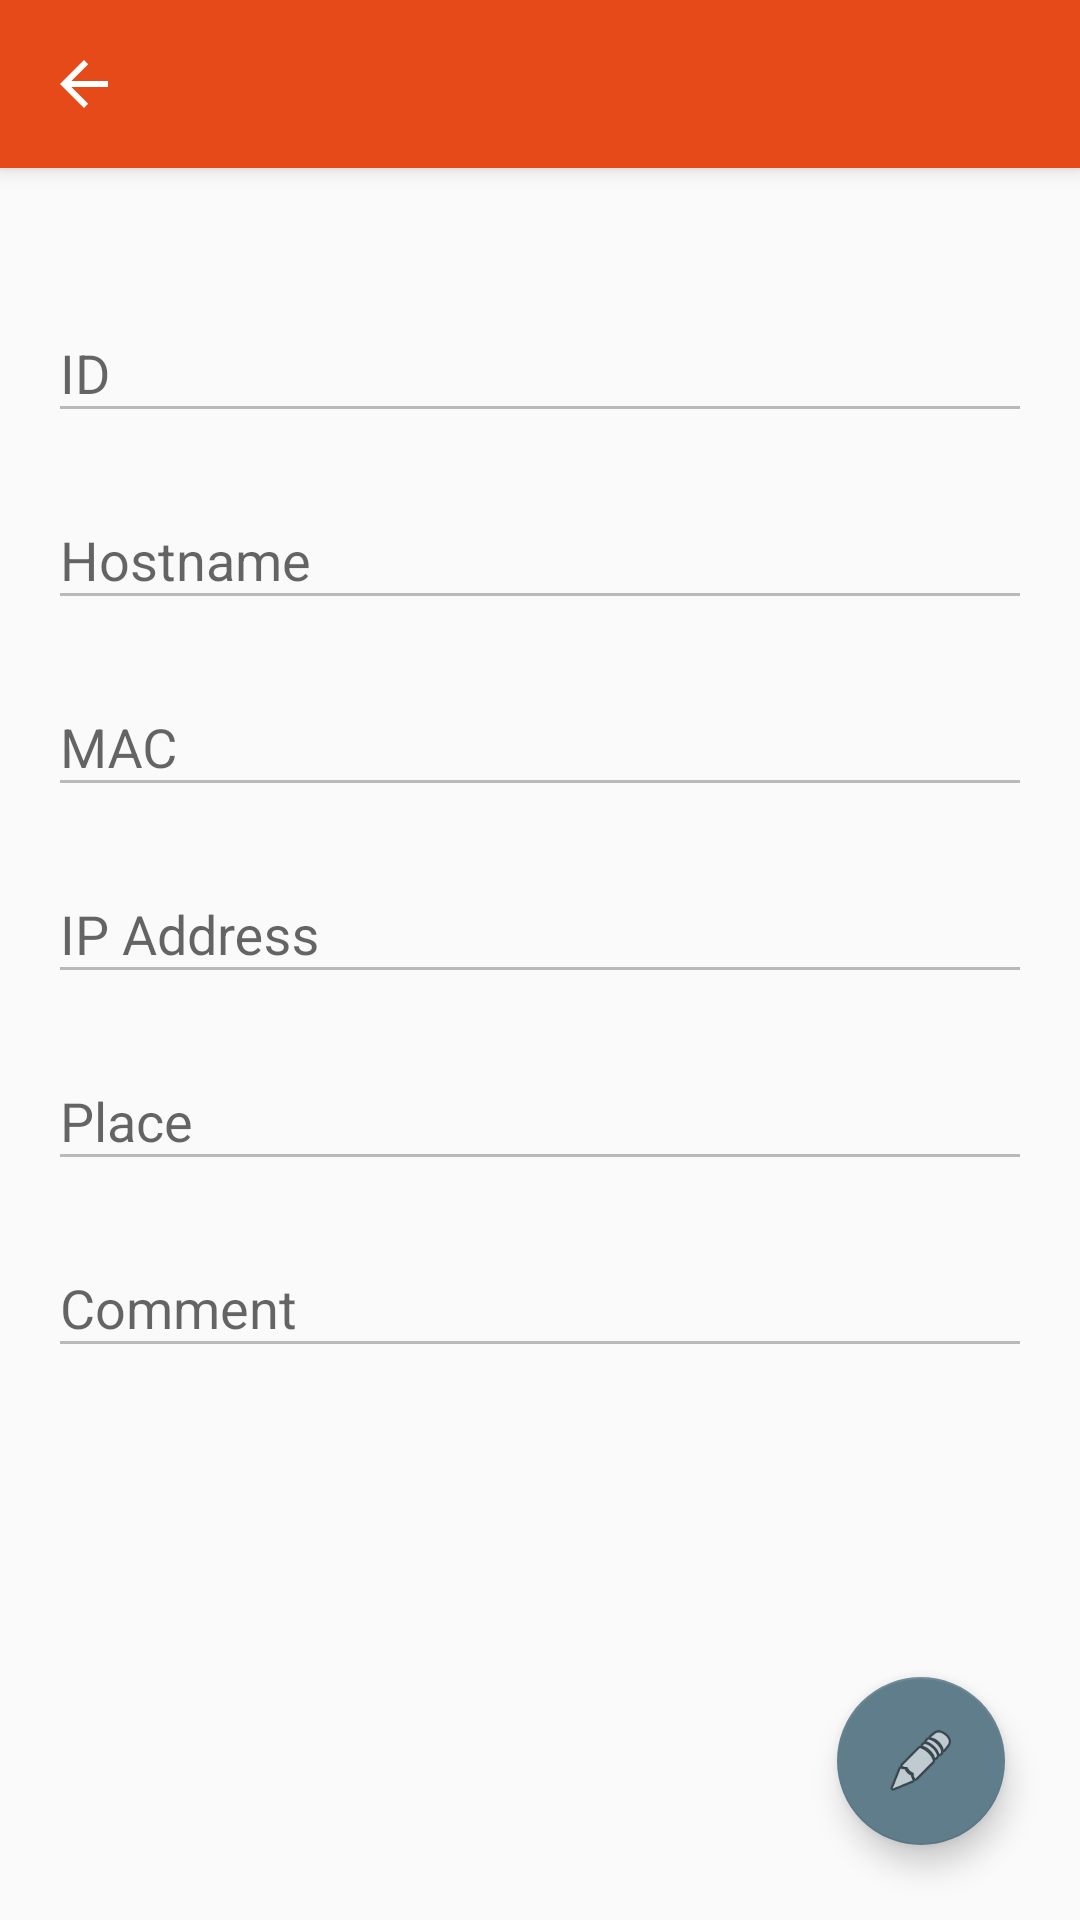

Icon click points for this 1080px x 1920px phone screenshot, format [x,y]:
edit: [921,1761]
